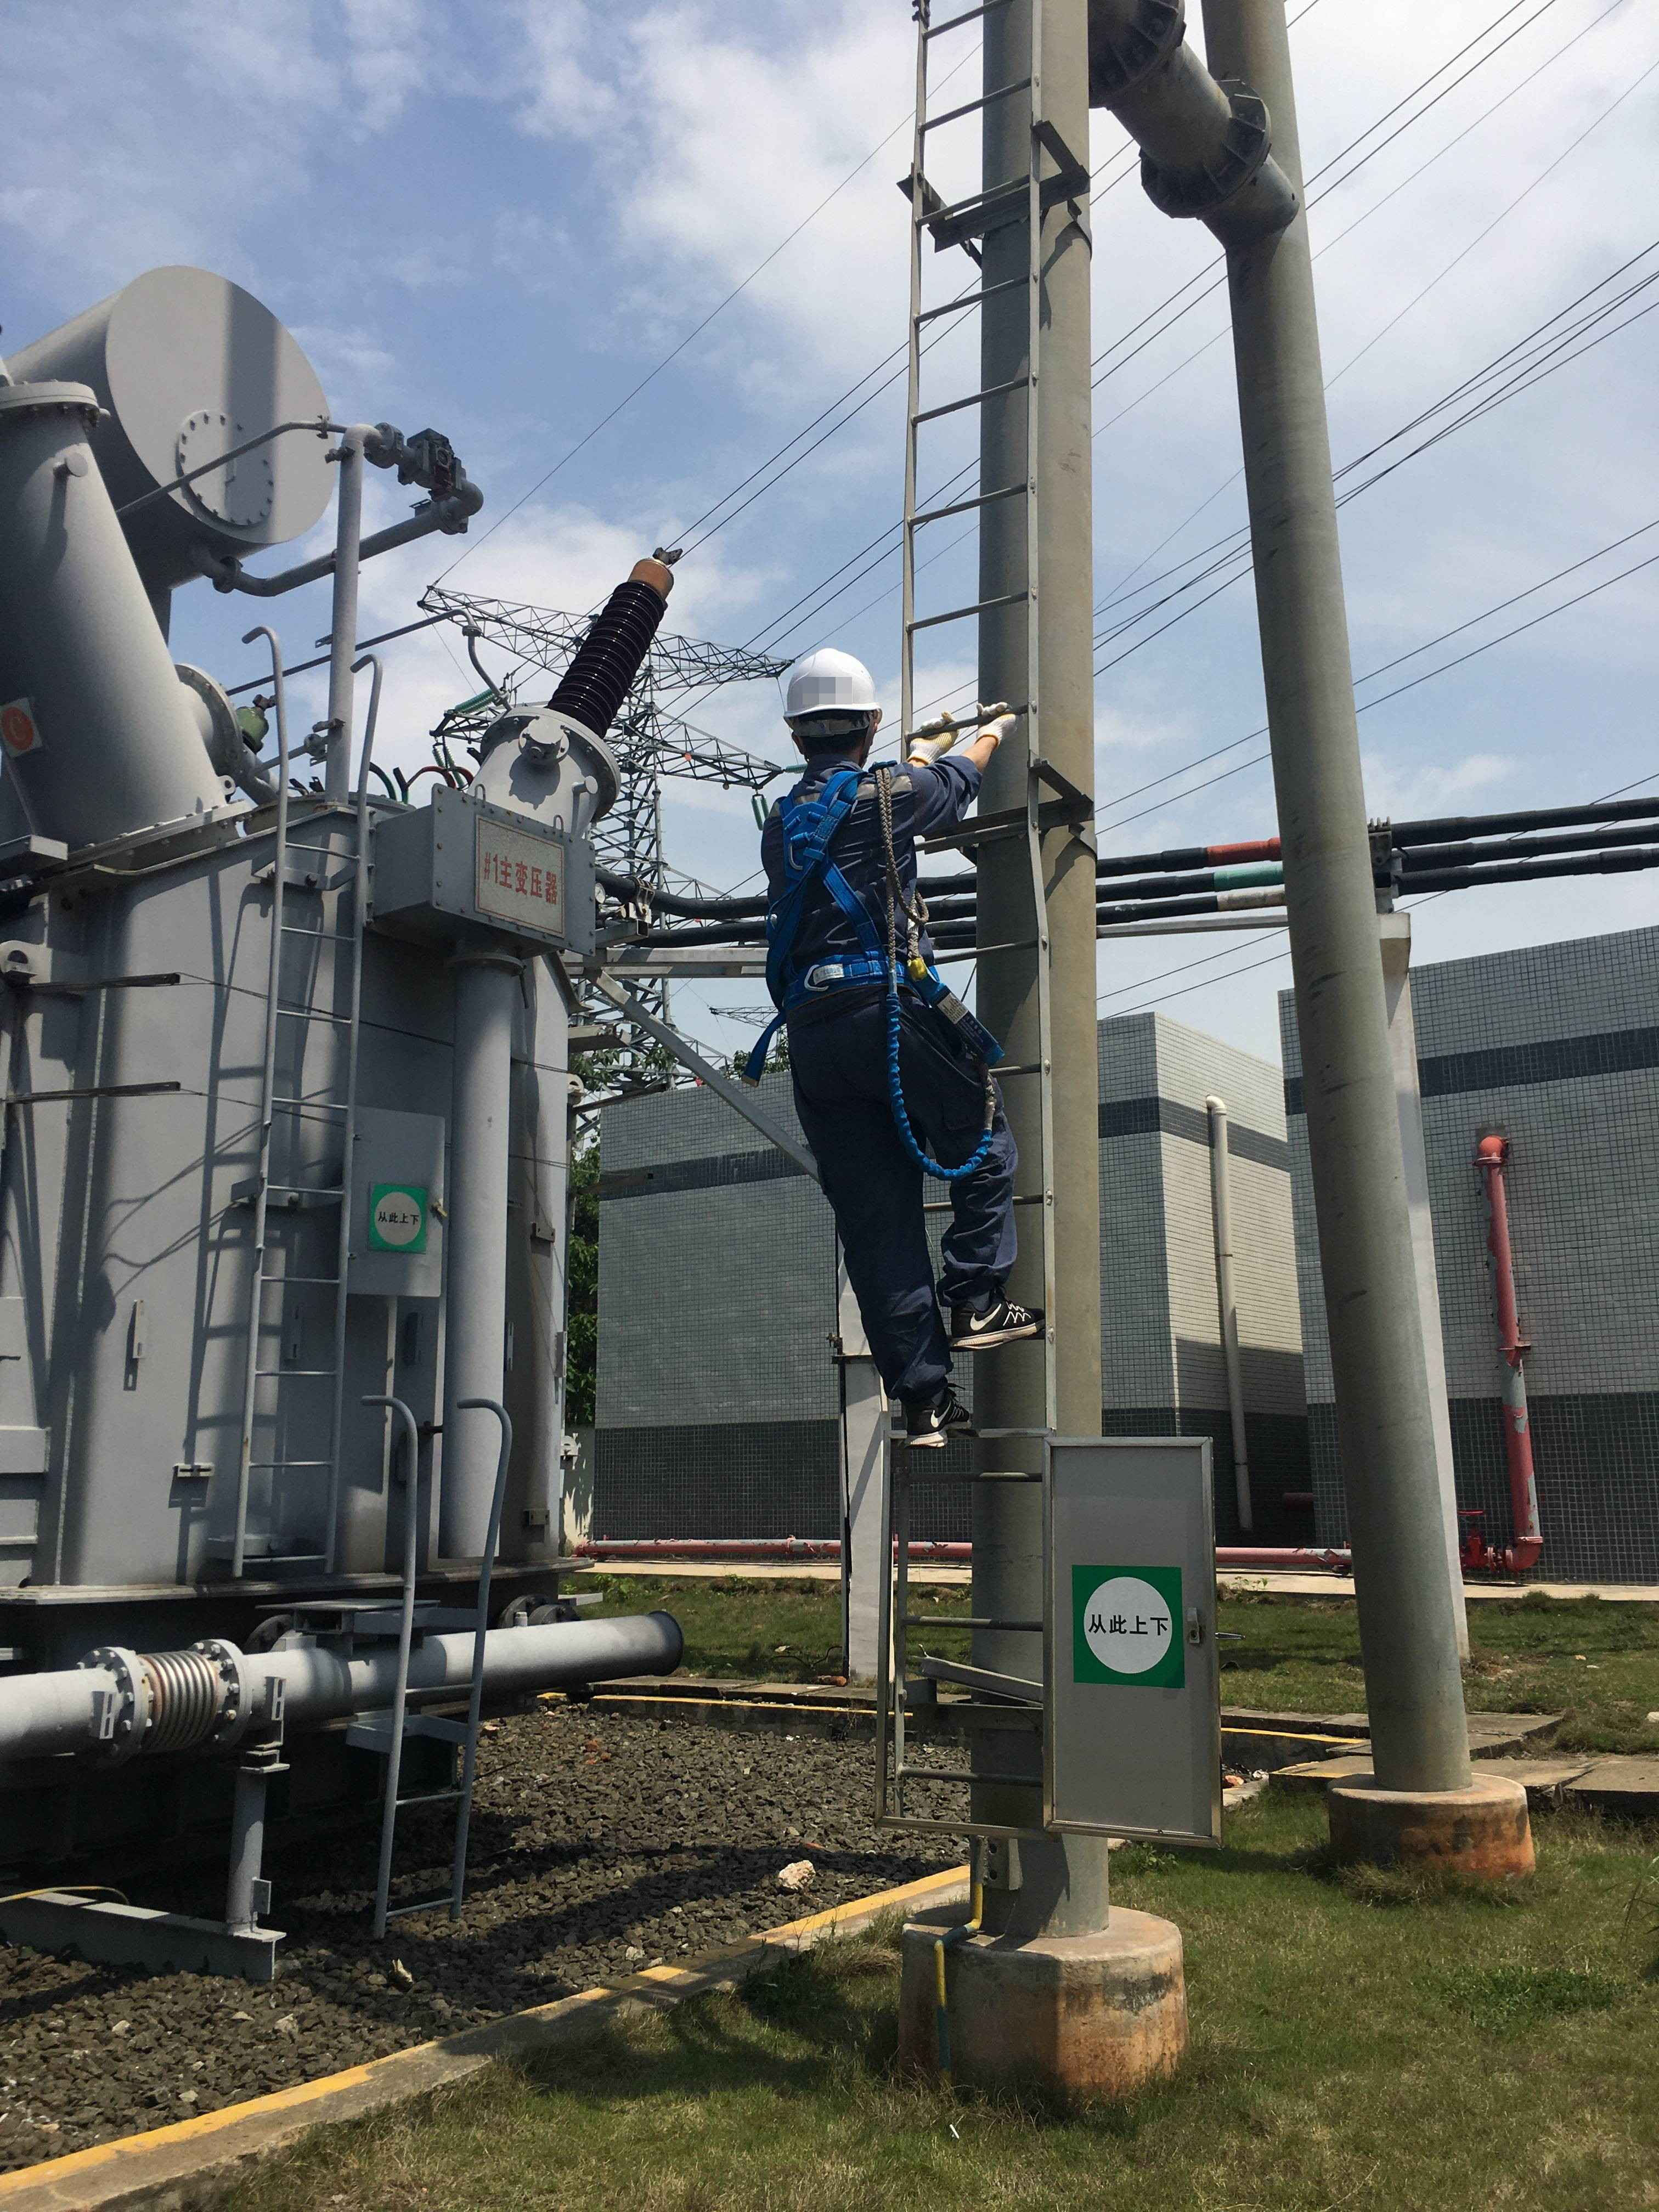downsuit: (789, 1001, 1012, 1395)
upsuit: (753, 761, 974, 982)
wrongtop: (953, 732, 1002, 782)
